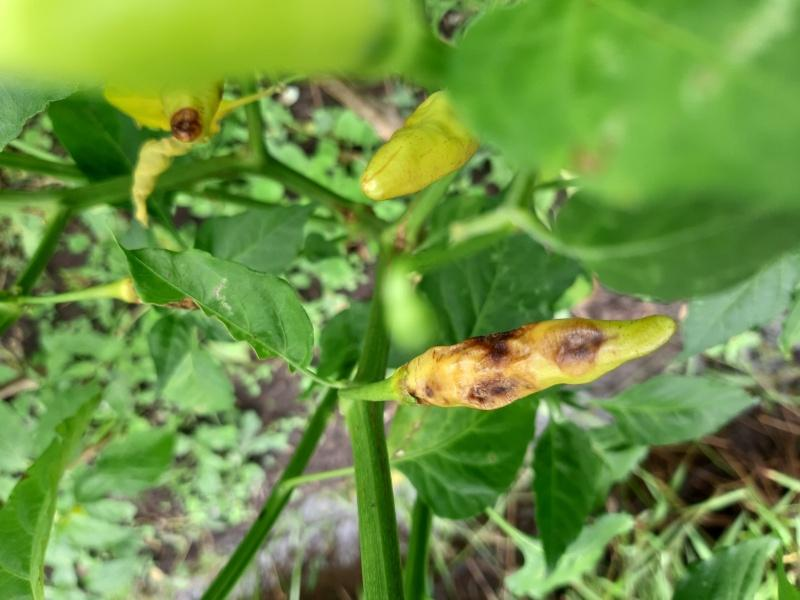antraknosa: (409, 315, 676, 409), (361, 91, 479, 204)
